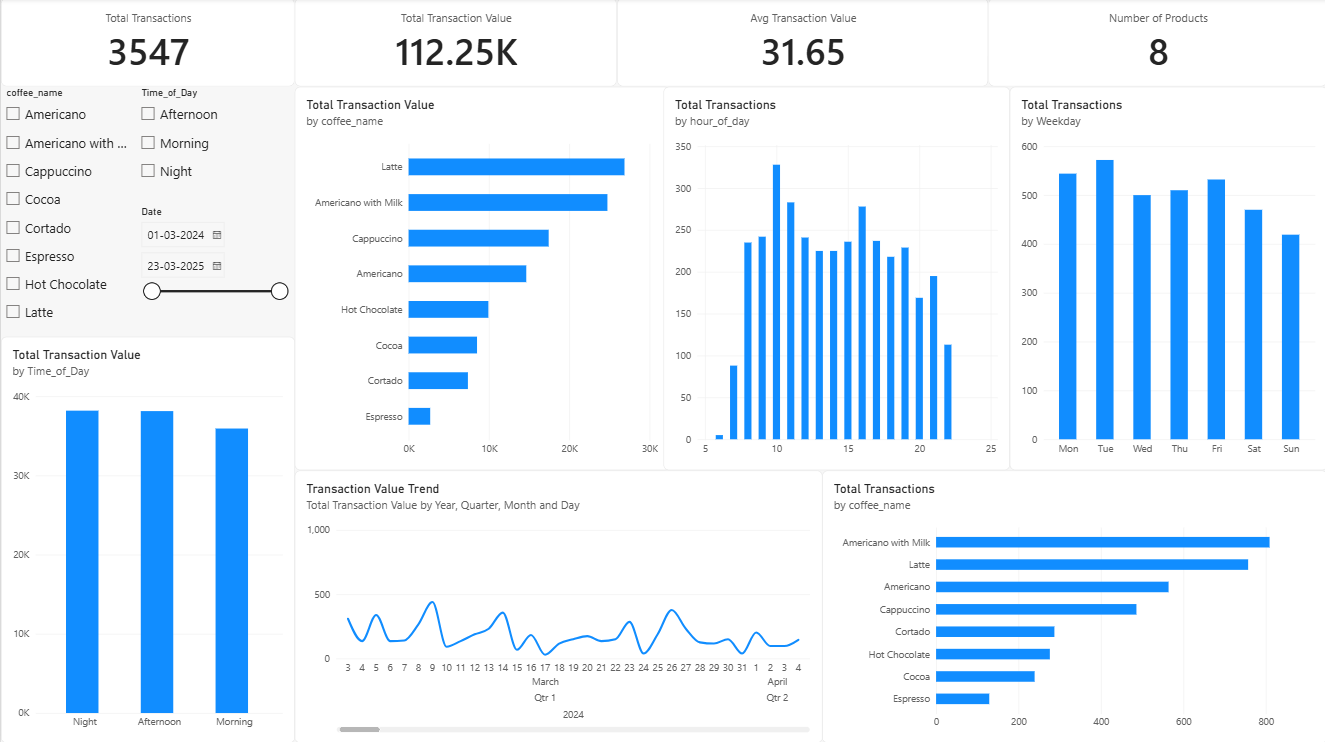

What the dashboard file says about the page in this screenshot:
{"tool":"powerbi","page":{"name":"Page 1","canvas":[1920,1080],"ordinal":0},"visuals":[{"type":"cardVisual","fields":{"Data":["Cleaned2Coffe_sales csv.Total Transactions"]},"box":[0,0,425.3,128.5],"z":0},{"type":"cardVisual","fields":{"Data":["Cleaned2Coffe_sales csv.Total Transaction Value"]},"box":[425.3,0,466.9,128.5],"z":1000},{"type":"cardVisual","fields":{"Data":["Cleaned2Coffe_sales csv.Avg Transaction Value"]},"box":[892.2,0,537.5,128.5],"z":2000},{"type":"cardVisual","fields":{"Data":["Cleaned2Coffe_sales csv.Number of Products"]},"box":[1429.6,0,490.4,128.5],"z":3000},{"type":"clusteredBarChart","fields":{"Category":["Cleaned2Coffe_sales csv.coffee_name"],"Y":["Cleaned2Coffe_sales csv.Total Transaction Value"]},"box":[425.3,128.5,542.9,555.6],"z":4000},{"type":"clusteredColumnChart","fields":{"Category":["Cleaned2Coffe_sales csv.hour_of_day"],"Y":["Cleaned2Coffe_sales csv.Total Transactions"]},"box":[959.1,128.5,501.3,555.6],"z":5000},{"type":"columnChart","fields":{"Category":["Cleaned2Coffe_sales csv.Time_of_Day"],"Y":["Cleaned2Coffe_sales csv.Total Transaction Value"]},"box":[0,490.4,425.3,589.9],"z":6000},{"type":"columnChart","fields":{"Category":["Cleaned2Coffe_sales csv.Weekday"],"Y":["Cleaned2Coffe_sales csv.Total Transactions"]},"box":[1460.4,128.5,459.7,555.6],"z":7000},{"type":"lineChart","title":"Transaction Value Trend","fields":{"Category":["Cleaned2Coffe_sales csv.Date.Variation.Date Hierarchy.Year","Cleaned2Coffe_sales csv.Date.Variation.Date Hierarchy.Quarter","Cleaned2Coffe_sales csv.Date.Variation.Date Hierarchy.Month","Cleaned2Coffe_sales csv.Date.Variation.Date Hierarchy.Day"],"Y":["Cleaned2Coffe_sales csv.Total Transaction Value"]},"box":[425.3,684.1,763.7,396.3],"z":8000},{"type":"barChart","fields":{"Category":["Cleaned2Coffe_sales csv.coffee_name"],"Y":["Cleaned2Coffe_sales csv.Total Transactions"]},"box":[1188.9,684.1,731.1,396.3],"z":9000},{"type":"slicer","fields":{"Values":["Cleaned2Coffe_sales csv.coffee_name"]},"box":[0,128.5,195.4,372.8],"z":10000},{"type":"slicer","fields":{"Values":["Cleaned2Coffe_sales csv.Time_of_Day"]},"box":[195.4,128.5,224.4,171.9],"z":11000},{"type":"slicer","fields":{"Values":["Cleaned2Coffe_sales csv.Date"]},"box":[195.4,300.4,224.4,190],"z":12000}]}

Visuals, with their boxes in screenshot pixels (x1, y1, x2, y2), scaled from the page's 1920x1080 canvas onto the 1325x742 screenshot:
cardVisual - Cleaned2Coffe_sales csv.Total Transactions: bbox=(0, 0, 294, 88)
cardVisual - Cleaned2Coffe_sales csv.Total Transaction Value: bbox=(294, 0, 616, 88)
cardVisual - Cleaned2Coffe_sales csv.Avg Transaction Value: bbox=(616, 0, 987, 88)
cardVisual - Cleaned2Coffe_sales csv.Number of Products: bbox=(987, 0, 1324, 88)
clusteredBarChart - Cleaned2Coffe_sales csv.coffee_name x Cleaned2Coffe_sales csv.Total Transaction Value: bbox=(294, 88, 668, 470)
clusteredColumnChart - Cleaned2Coffe_sales csv.hour_of_day x Cleaned2Coffe_sales csv.Total Transactions: bbox=(662, 88, 1008, 470)
columnChart - Cleaned2Coffe_sales csv.Time_of_Day x Cleaned2Coffe_sales csv.Total Transaction Value: bbox=(0, 337, 294, 741)
columnChart - Cleaned2Coffe_sales csv.Weekday x Cleaned2Coffe_sales csv.Total Transactions: bbox=(1008, 88, 1324, 470)
"Transaction Value Trend" lineChart: bbox=(294, 470, 821, 741)
barChart - Cleaned2Coffe_sales csv.coffee_name x Cleaned2Coffe_sales csv.Total Transactions: bbox=(820, 470, 1324, 741)
slicer - Cleaned2Coffe_sales csv.coffee_name: bbox=(0, 88, 135, 344)
slicer - Cleaned2Coffe_sales csv.Time_of_Day: bbox=(135, 88, 290, 206)
slicer - Cleaned2Coffe_sales csv.Date: bbox=(135, 206, 290, 337)
